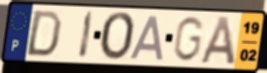A: (198, 15, 238, 66), (128, 14, 166, 62)
D: (23, 9, 64, 59)
G: (171, 15, 206, 64)
I: (77, 9, 95, 61)
O: (99, 11, 138, 63)
